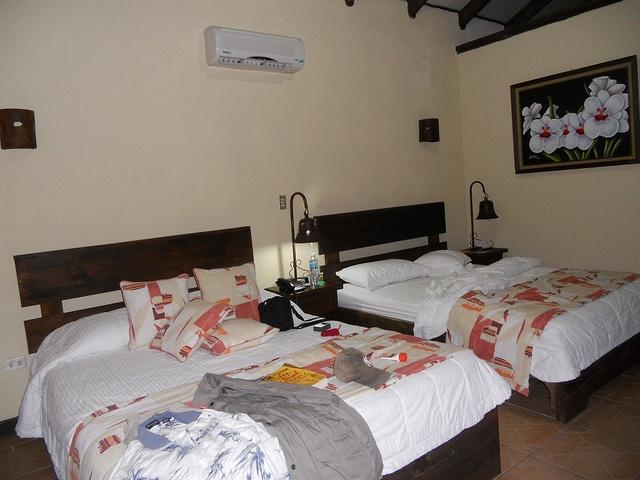AC: (203, 24, 305, 74)
